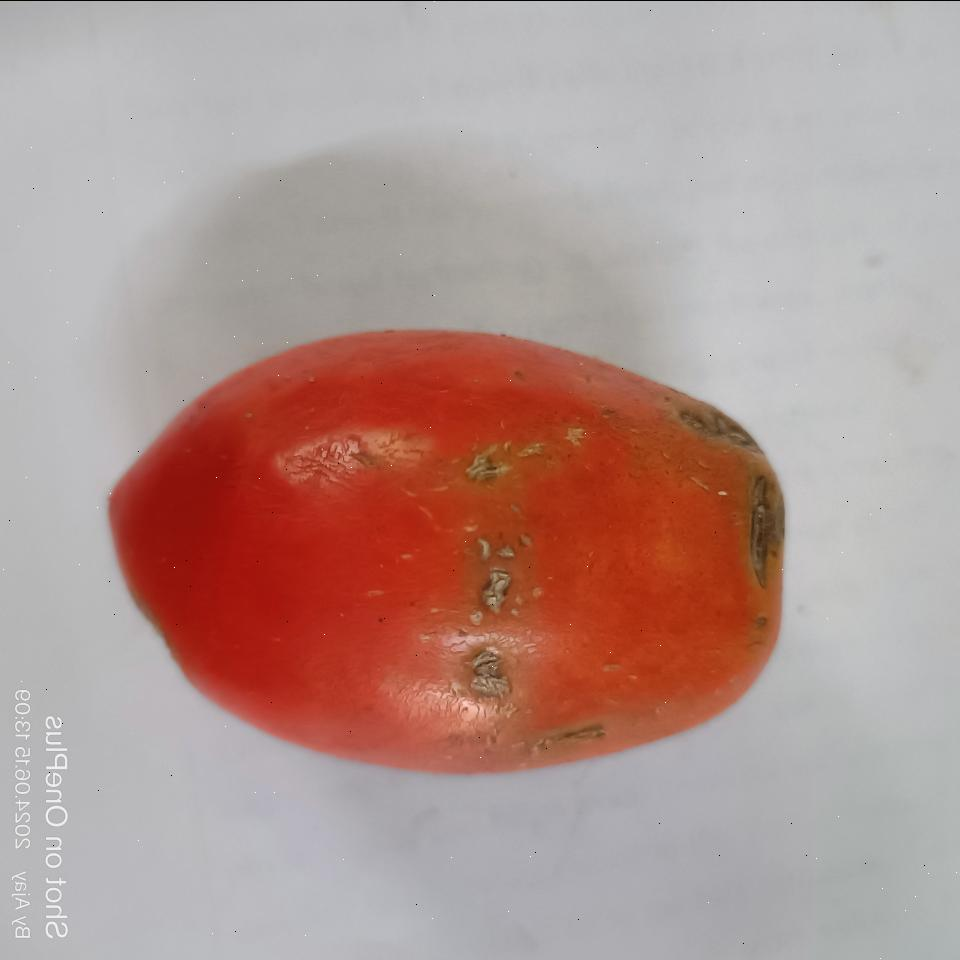Bacterial_Spot: (744, 464, 784, 586), (470, 542, 524, 618), (456, 645, 507, 708), (550, 720, 602, 753), (463, 449, 501, 489)
